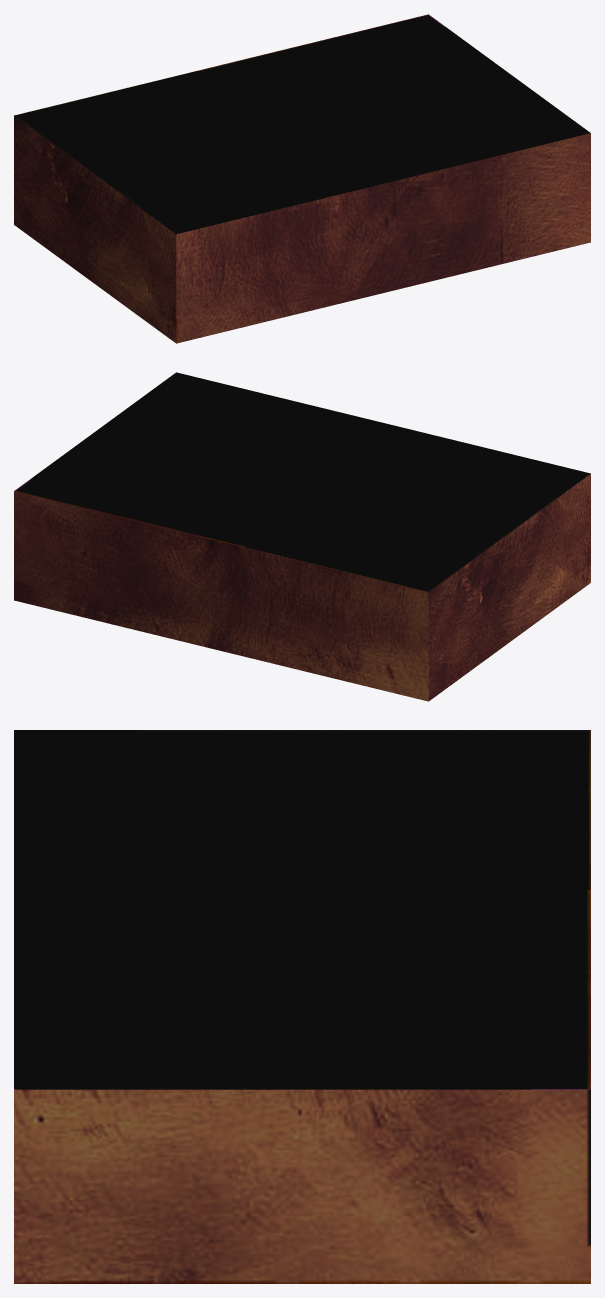
Rendered from theatreProscenium.obj.
The picture shows the model from 3 angles, top to bottom: view 1: azimuth 30°, elevation 25°; view 2: azimuth 150°, elevation 25°; view 3: azimuth 270°, elevation 25°; orthographic projection. The views are drawn at different scales.
Parts seen in each view (by area): view 1: Cube_Cube.003; view 2: Cube_Cube.003; view 3: Cube_Cube.003.
Boxes of the visible parts, x1,y1,x2,y2 form: Cube_Cube.003: (14, 14, 590, 343); Cube_Cube.003: (14, 372, 590, 701); Cube_Cube.003: (14, 730, 590, 1283).
Size of the model in its own units: 86.64 by 21.82 by 58.74.
1 material, 1 textured.
